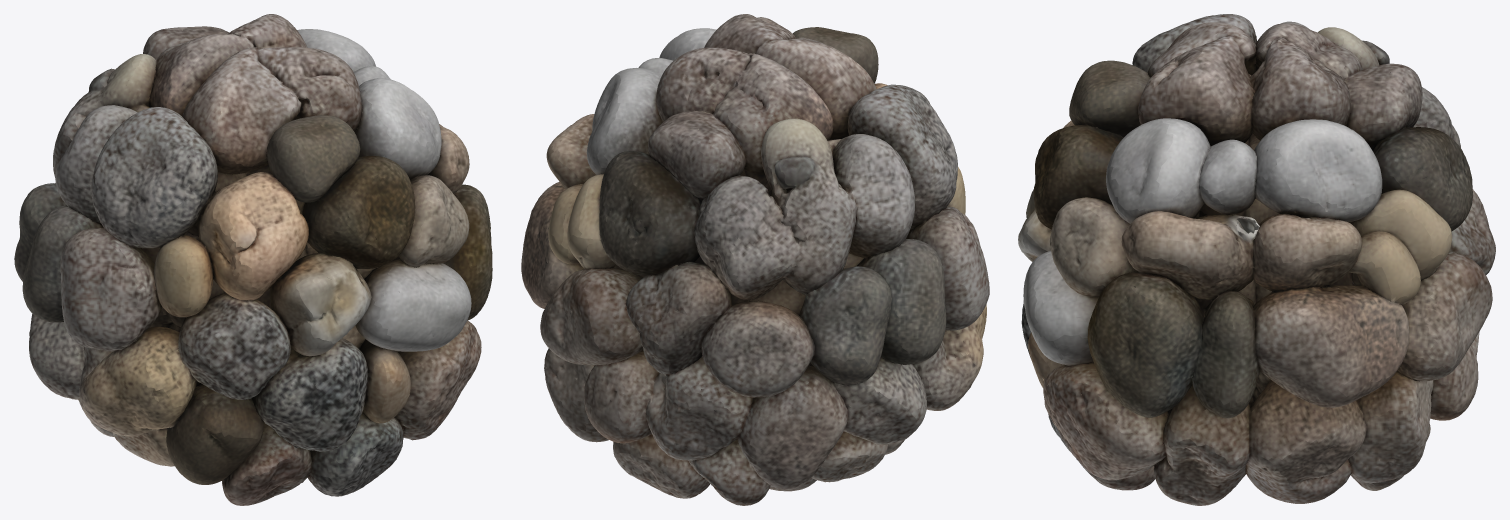
The model's file is stream-cobble-cluster-v21.glb.
3 views of the same model, side by side, from view 1: azimuth 30°, elevation 25°; view 2: azimuth 150°, elevation 25°; view 3: azimuth 270°, elevation 25° (orthographic). The views are drawn at different scales.
Visible parts, largest first — view 1: world; view 2: world; view 3: world.
Part boxes in pixels (bbox=[...]): world: bbox=[14, 14, 492, 505]; world: bbox=[521, 14, 989, 505]; world: bbox=[1018, 14, 1495, 505].
Size of the model in its own units: 0.35 by 0.3484 by 0.3454.
Materials: 1 (1 with a texture image).
